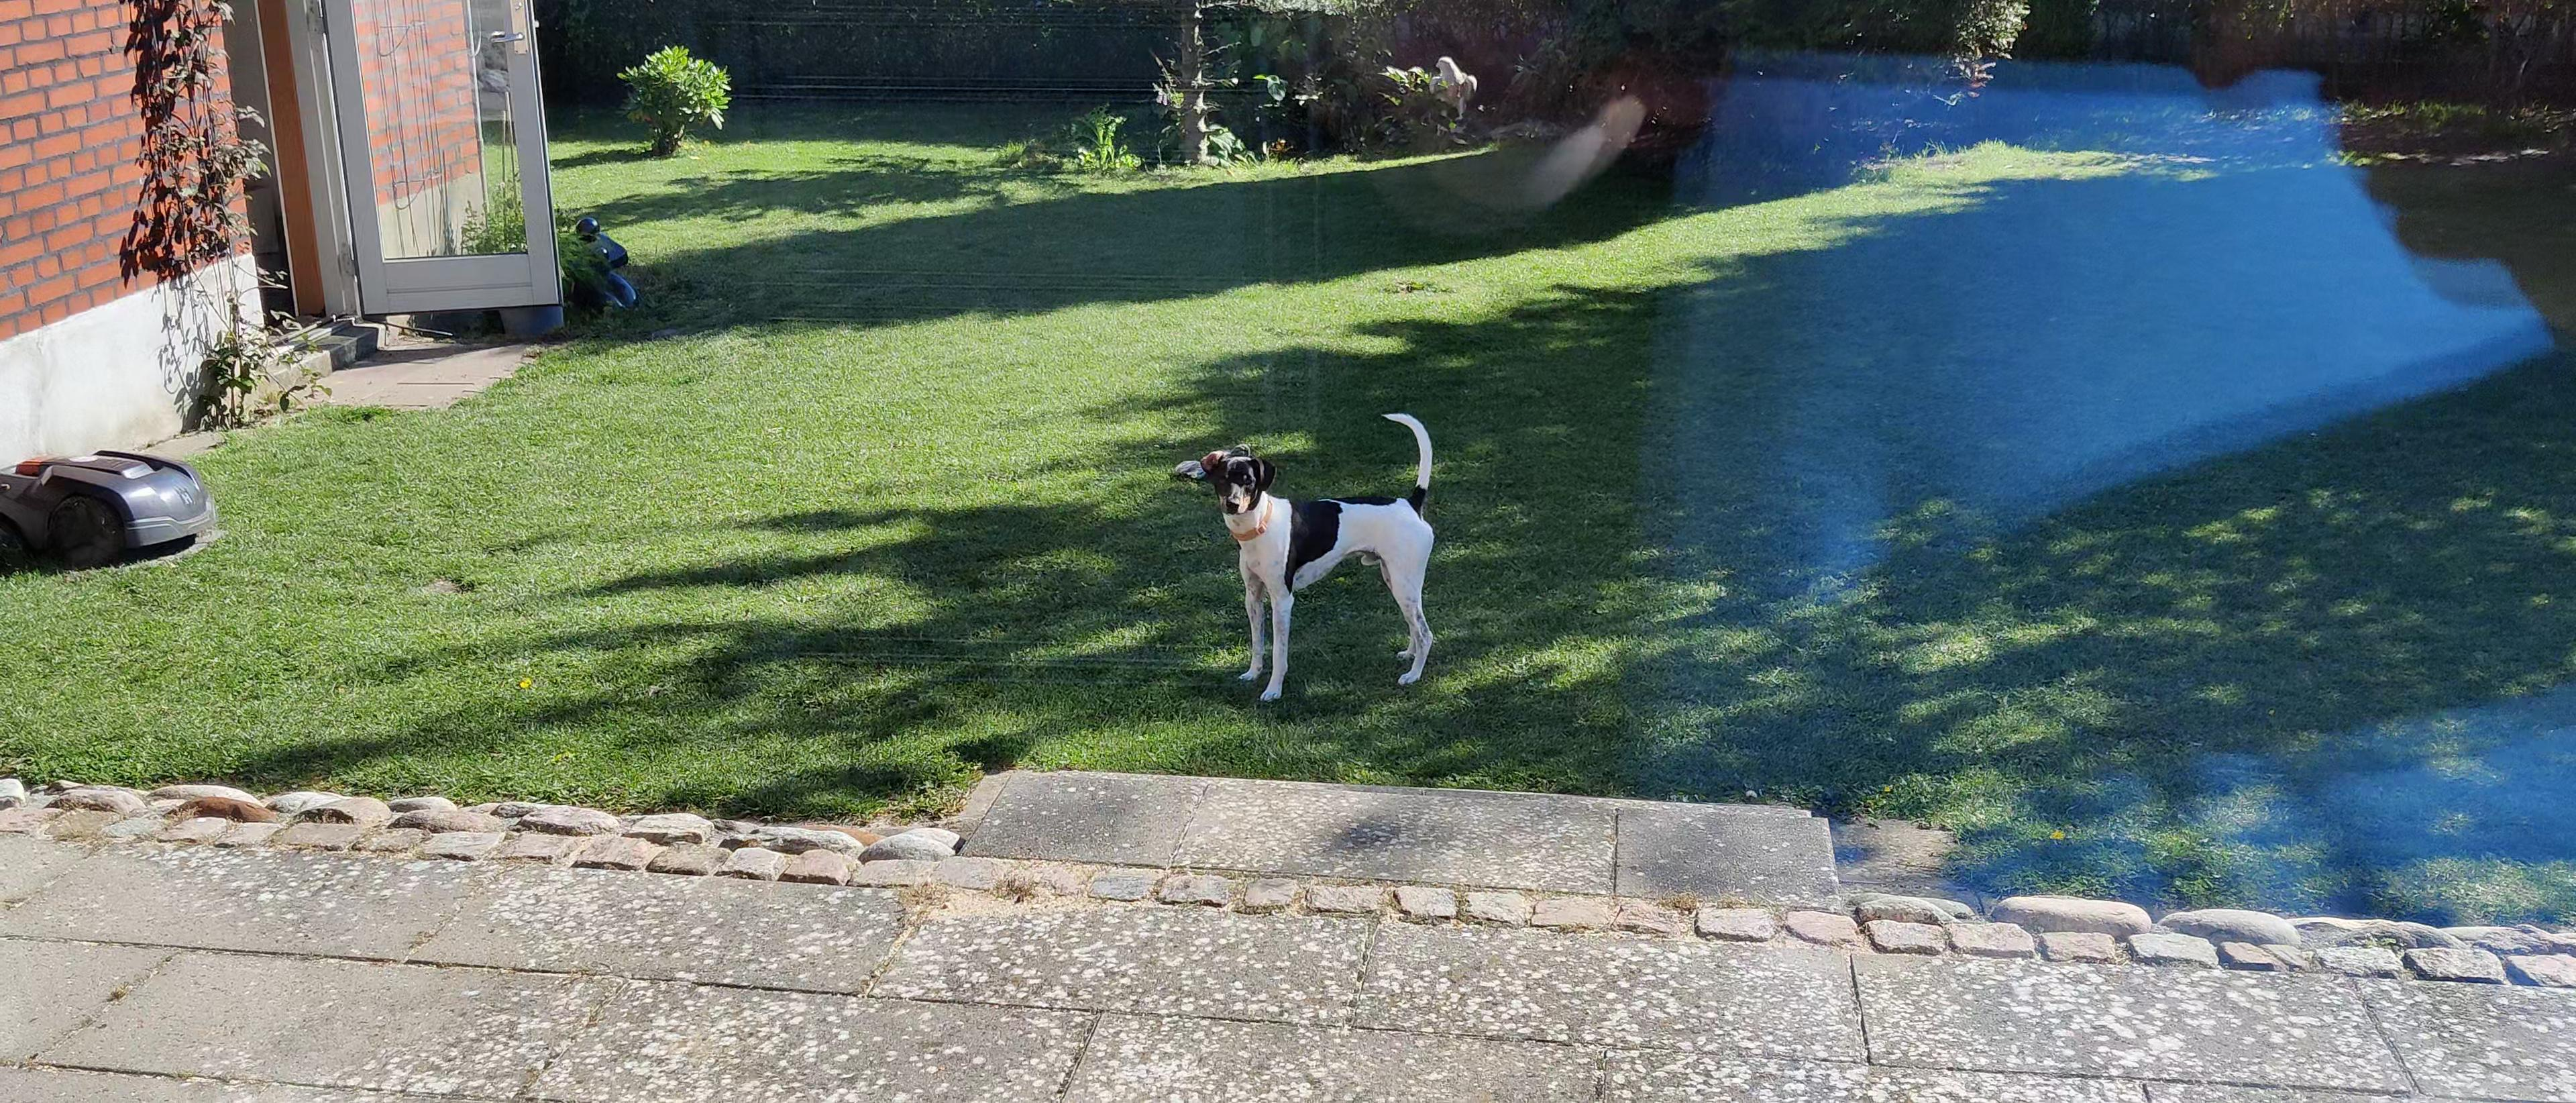Dog: (1193, 409, 1442, 707)
